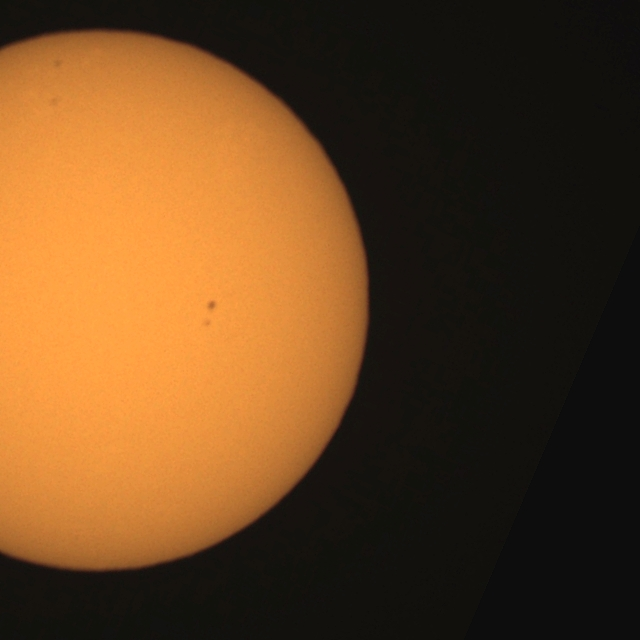sunspot: (204, 299, 218, 317)
